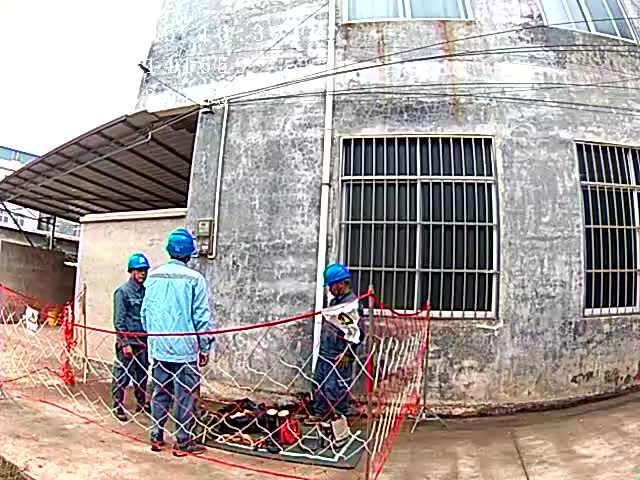halt: (168, 231, 201, 264), (326, 268, 356, 299), (129, 256, 153, 285)
